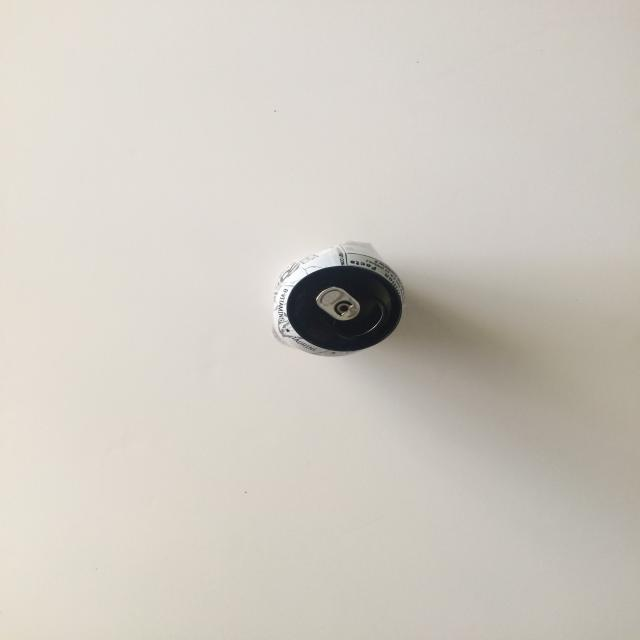Metal: (266, 230, 430, 370)
